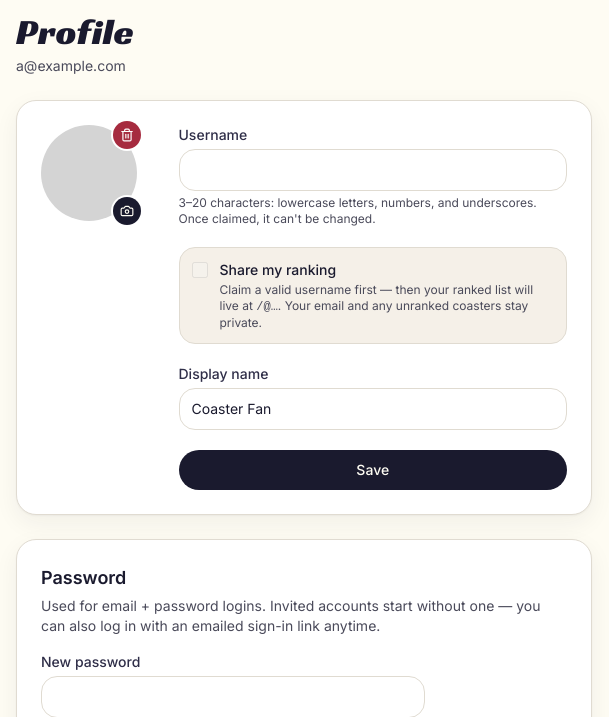
Test case: ProfilePage › lets an unclaimed user claim a username
Step 1. Type "new_handle" into the field labelled "Username" → (373, 170), box [178, 149, 567, 191]
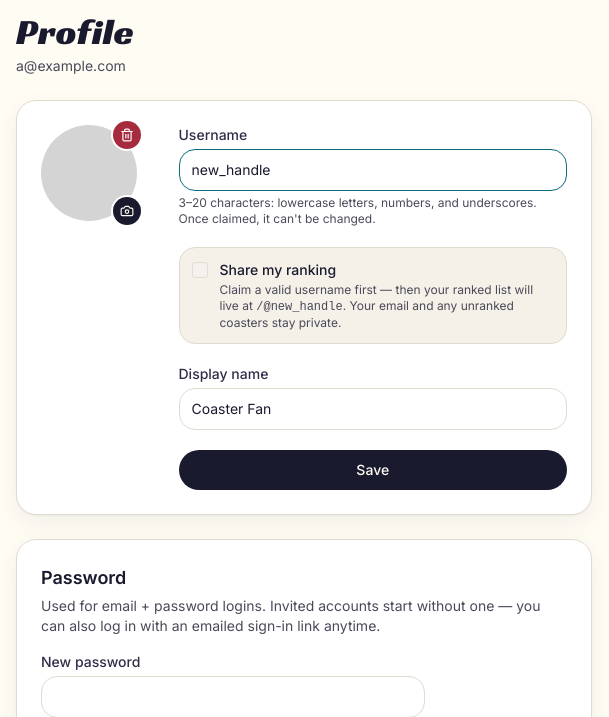
Step 2. Click the button "Save" → (373, 470), box [178, 450, 567, 490]
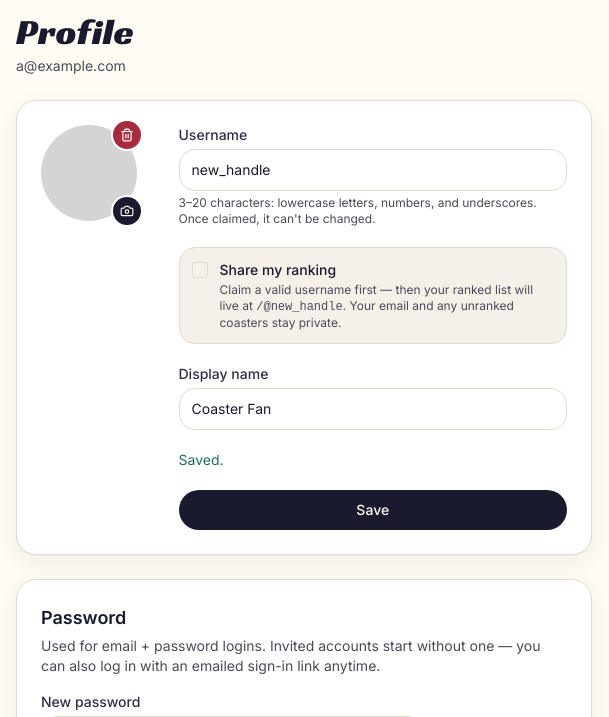
Expected: the text "Saved." is shown, [178, 451, 224, 468]
